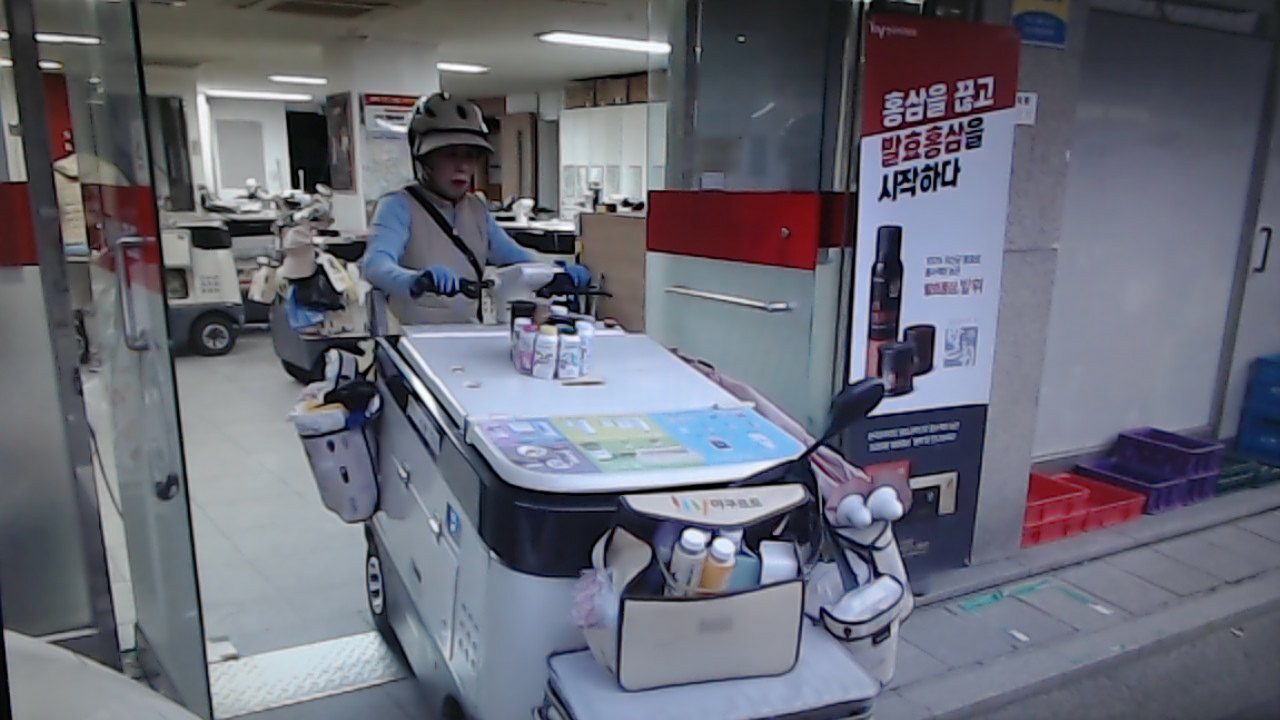Yakurut: (363, 88, 584, 334)
